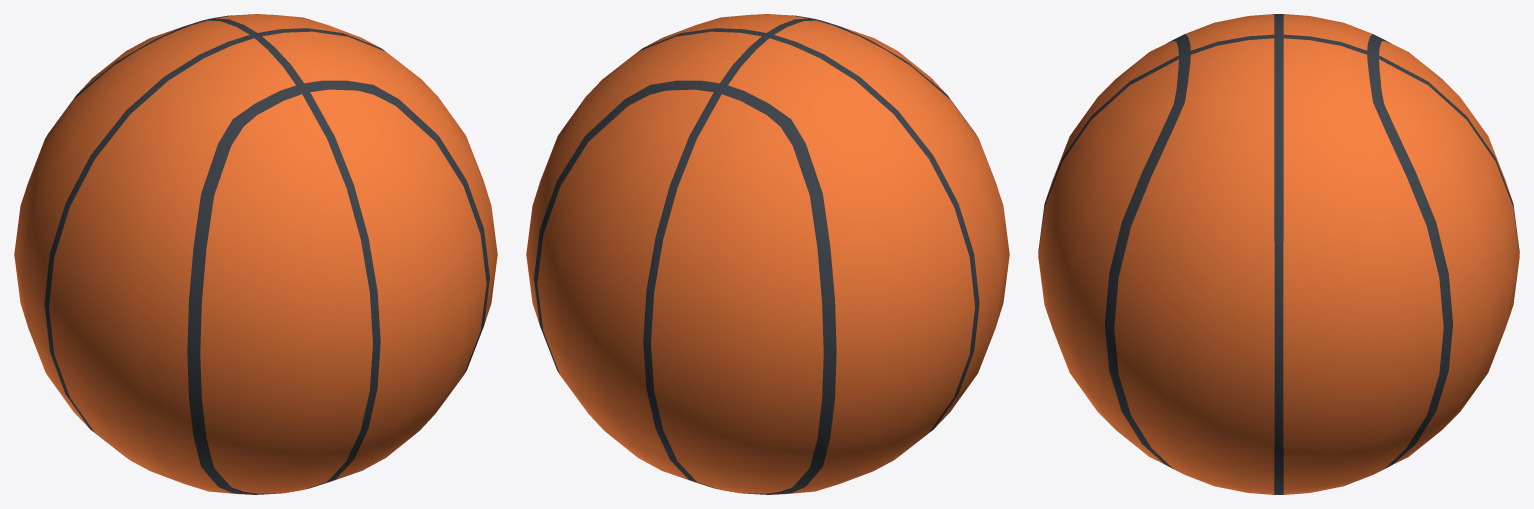
Rendered from BasketBall.fbx.
3 renders of one model, left to right at view 1: azimuth 30°, elevation 25°; view 2: azimuth 150°, elevation 25°; view 3: azimuth 270°, elevation 25°, orthographic.
Visible parts, largest first — view 1: Basketball; view 2: Basketball; view 3: Basketball.
Boxes of the visible parts, bbox=[...] form: Basketball: bbox=[14, 14, 497, 494]; Basketball: bbox=[526, 14, 1009, 494]; Basketball: bbox=[1038, 14, 1519, 494].
Size of the model in its own units: 85.83 by 85.77 by 85.83.
